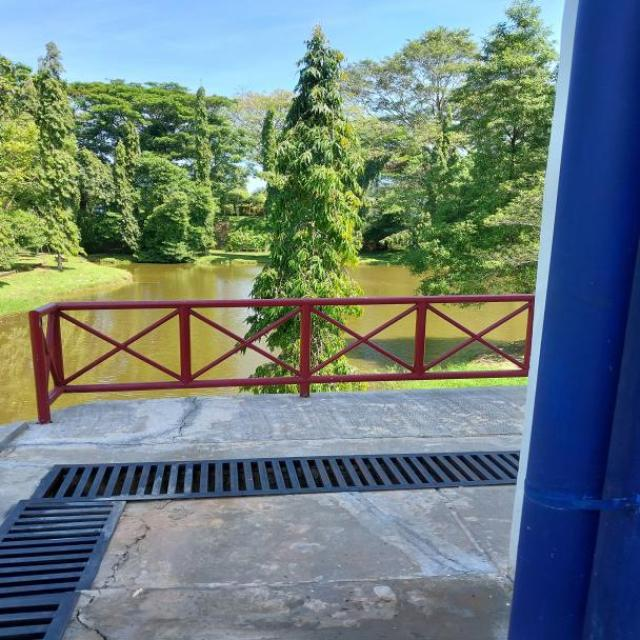barrier ahead at: (30, 297, 533, 379)
